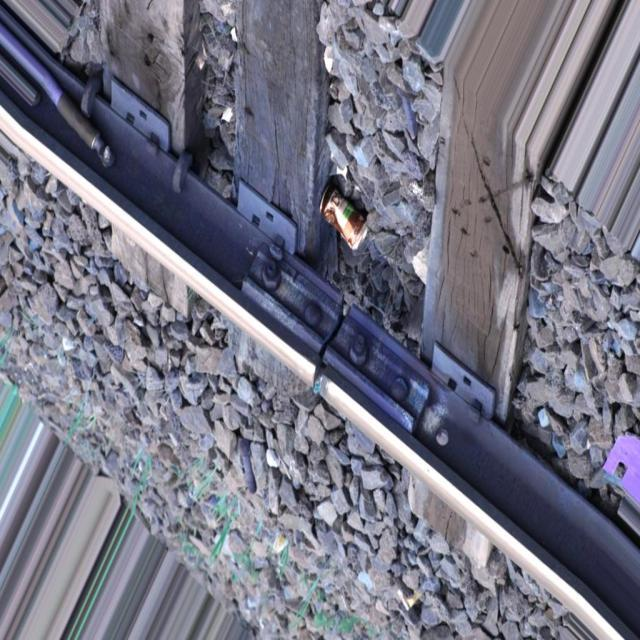Defective Joint: (242, 242, 424, 435)
Missing Dogscrew: (448, 378, 456, 390), (252, 215, 259, 227), (126, 112, 133, 123)
